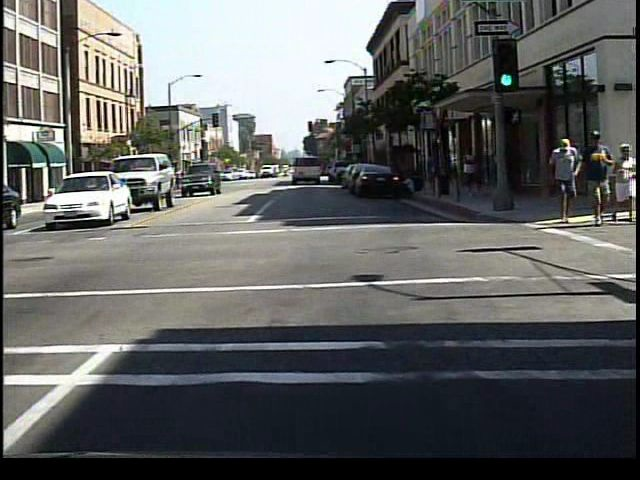person: (543, 135, 584, 229), (584, 126, 614, 230), (606, 140, 634, 224), (457, 144, 486, 202)
